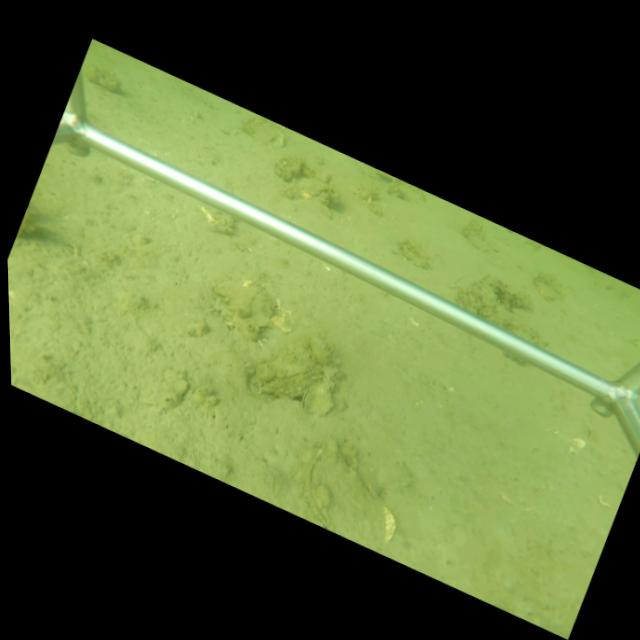Oyster-Closed: (302, 444, 383, 553), (251, 356, 324, 400), (299, 388, 314, 413), (328, 367, 346, 382), (325, 379, 336, 392)
